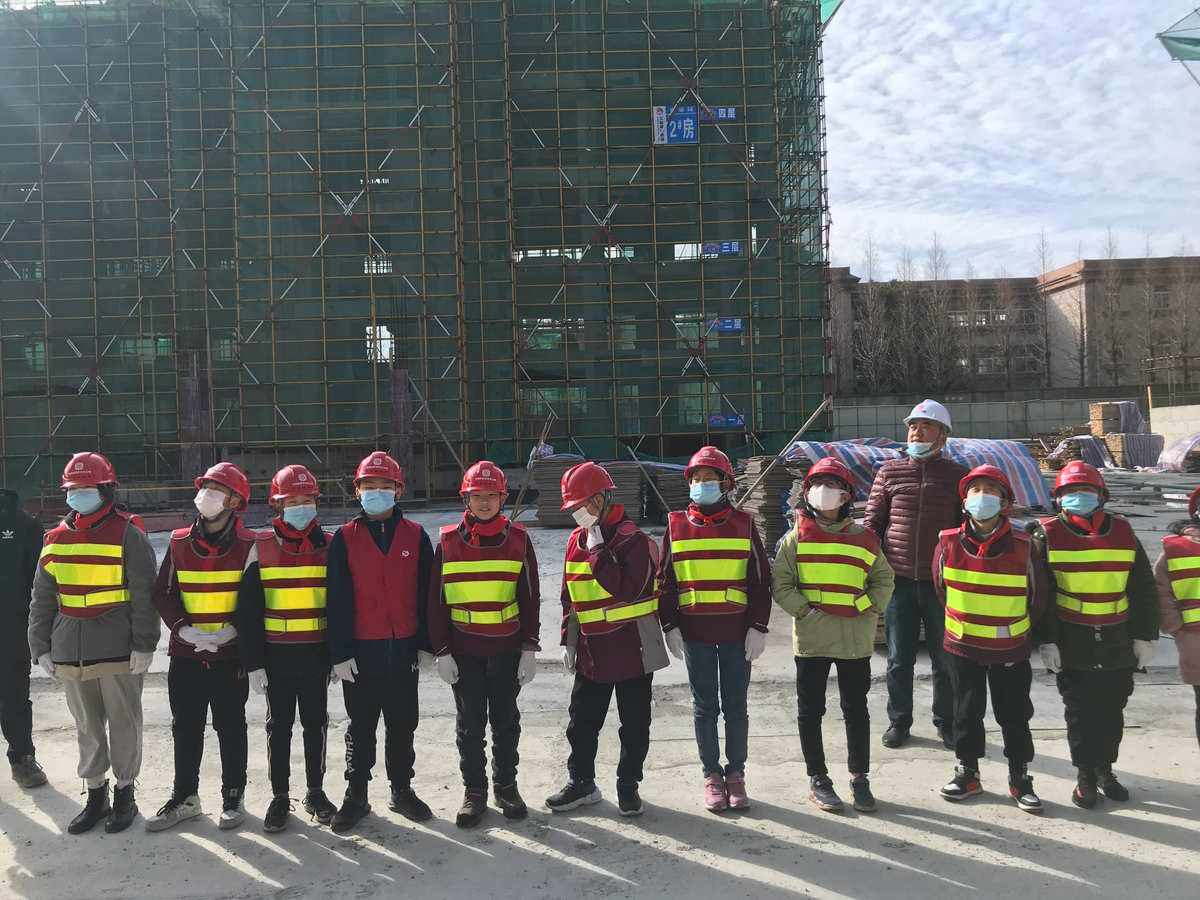ordinary_clothes: (878, 456, 965, 581), (337, 518, 425, 641)
person: (26, 449, 158, 837), (1032, 459, 1163, 814), (769, 457, 895, 818), (143, 459, 260, 835), (427, 457, 543, 834), (658, 445, 773, 820), (542, 458, 660, 820), (932, 463, 1051, 819), (329, 449, 433, 837), (860, 398, 970, 754), (253, 460, 336, 835), (1152, 480, 1200, 752)
reflective_vest: (1035, 511, 1138, 630), (936, 527, 1034, 652), (35, 512, 143, 616), (437, 522, 530, 639), (563, 524, 660, 632), (790, 507, 882, 617), (253, 526, 337, 646), (666, 504, 756, 615), (169, 525, 254, 634), (1161, 532, 1200, 629)
safety_helmet: (556, 458, 621, 530), (57, 447, 119, 516), (187, 459, 252, 524), (349, 447, 406, 518), (800, 455, 859, 522), (957, 463, 1019, 526), (265, 461, 319, 533), (682, 444, 737, 509), (1054, 458, 1112, 517), (458, 458, 509, 523), (904, 398, 953, 462)
